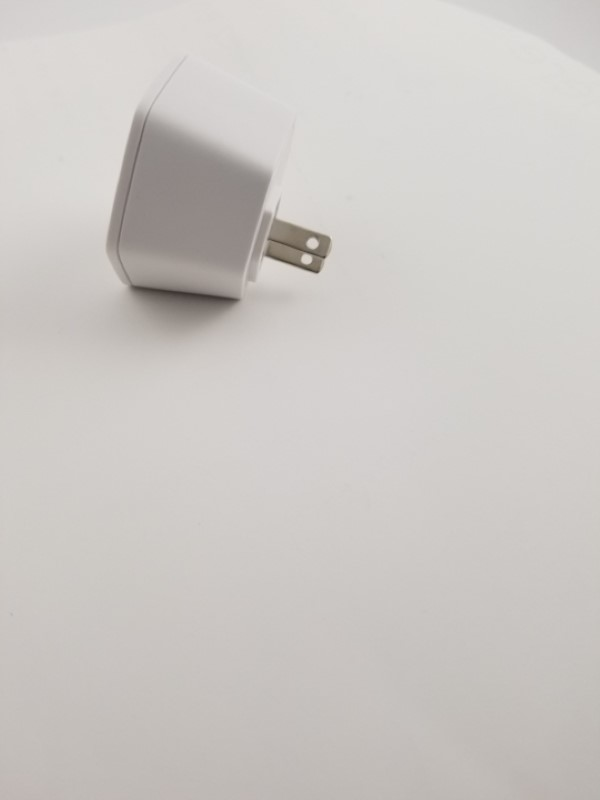pod: (103, 42, 339, 321)
